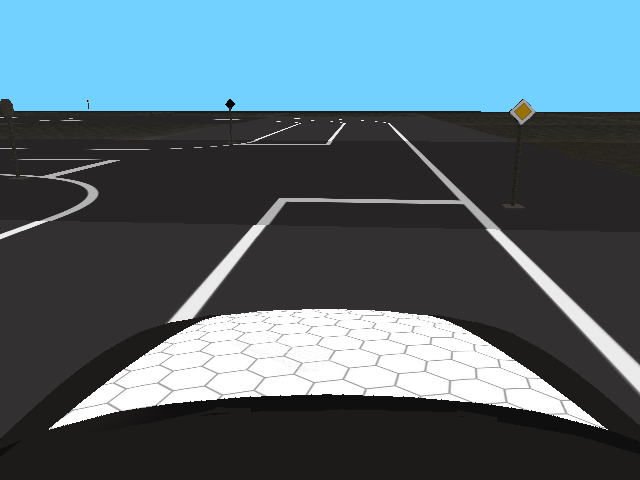priority: (509, 98, 536, 124)
